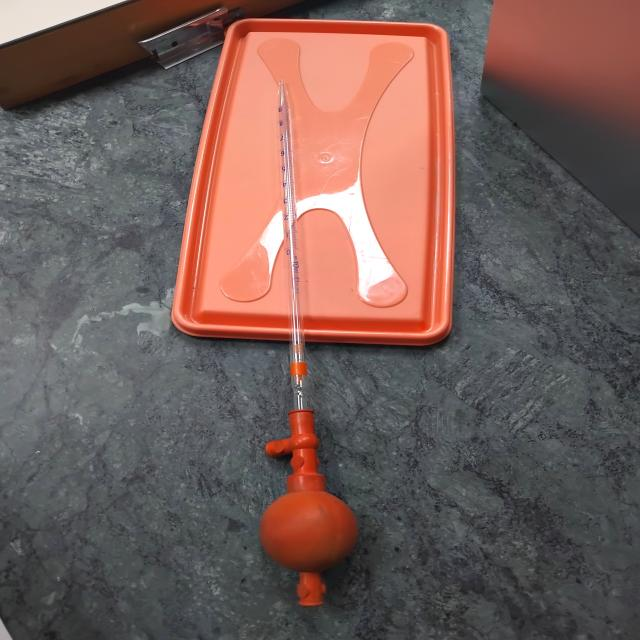Volumetric_Pipet: (228, 73, 353, 626)
